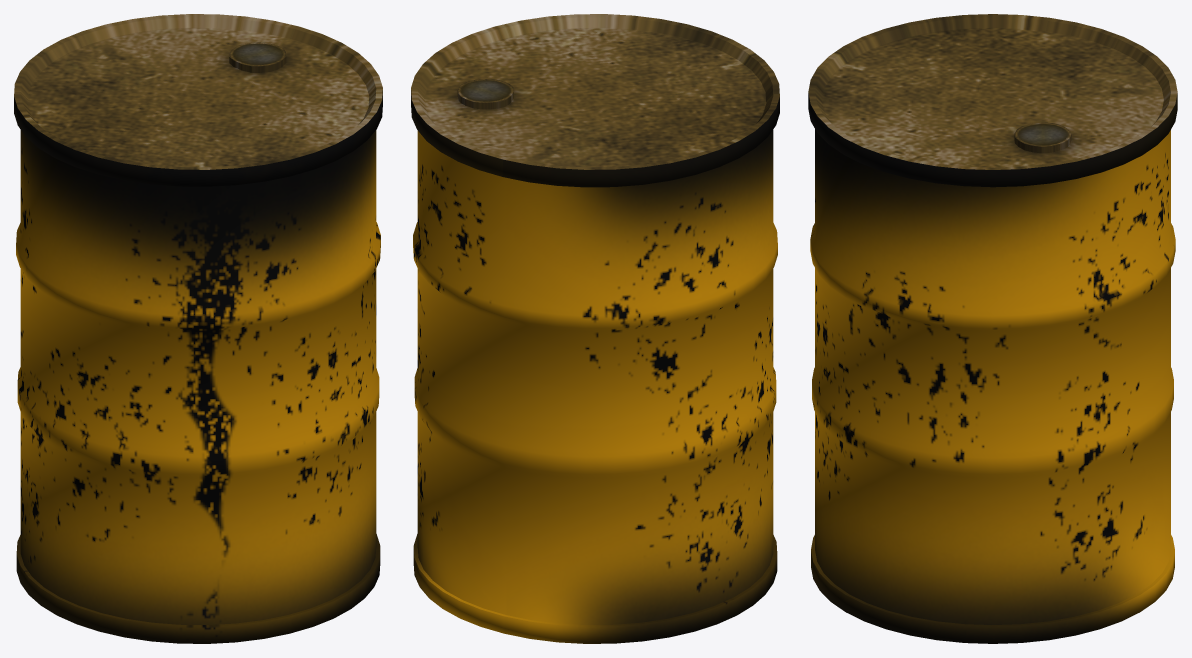
Rendered from barrel5.fbx.
3 views of the same model, side by side, from view 1: azimuth 30°, elevation 25°; view 2: azimuth 150°, elevation 25°; view 3: azimuth 270°, elevation 25° (orthographic).
Parts seen in each view (by area): view 1: body, top; view 2: body, top; view 3: body, top.
Boxes of the visible parts, x1,y1,x2,y2 form: body: [16, 130, 380, 643]; top: [14, 14, 382, 186]; body: [413, 130, 777, 643]; top: [411, 14, 779, 187]; body: [810, 129, 1175, 643]; top: [808, 14, 1177, 187].
Size of the model in its own units: 70.03 by 99.38 by 70.03.
